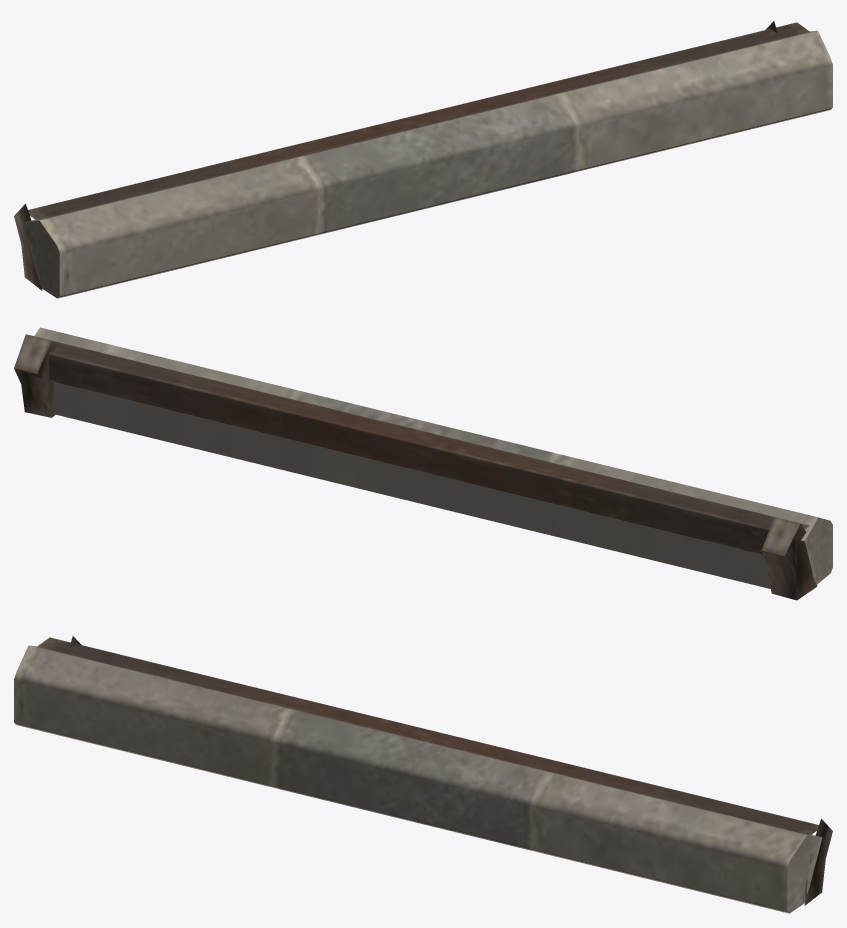
The model's file is roof.brick.bottom.line.glb.
The picture shows the model from 3 angles, top to bottom: view 1: azimuth 30°, elevation 25°; view 2: azimuth 150°, elevation 25°; view 3: azimuth 330°, elevation 25°; orthographic projection.
Parts seen in each view (by area): view 1: model; view 2: model; view 3: model.
Part boxes in pixels (box(x1,y1,x2,y2)): model: box(14, 21, 832, 298); model: box(14, 327, 832, 600); model: box(14, 636, 832, 913).
Bounding box in the file's own units: 3.03 × 0.2817 × 0.3164.
Materials: 1 (1 with a texture image).
